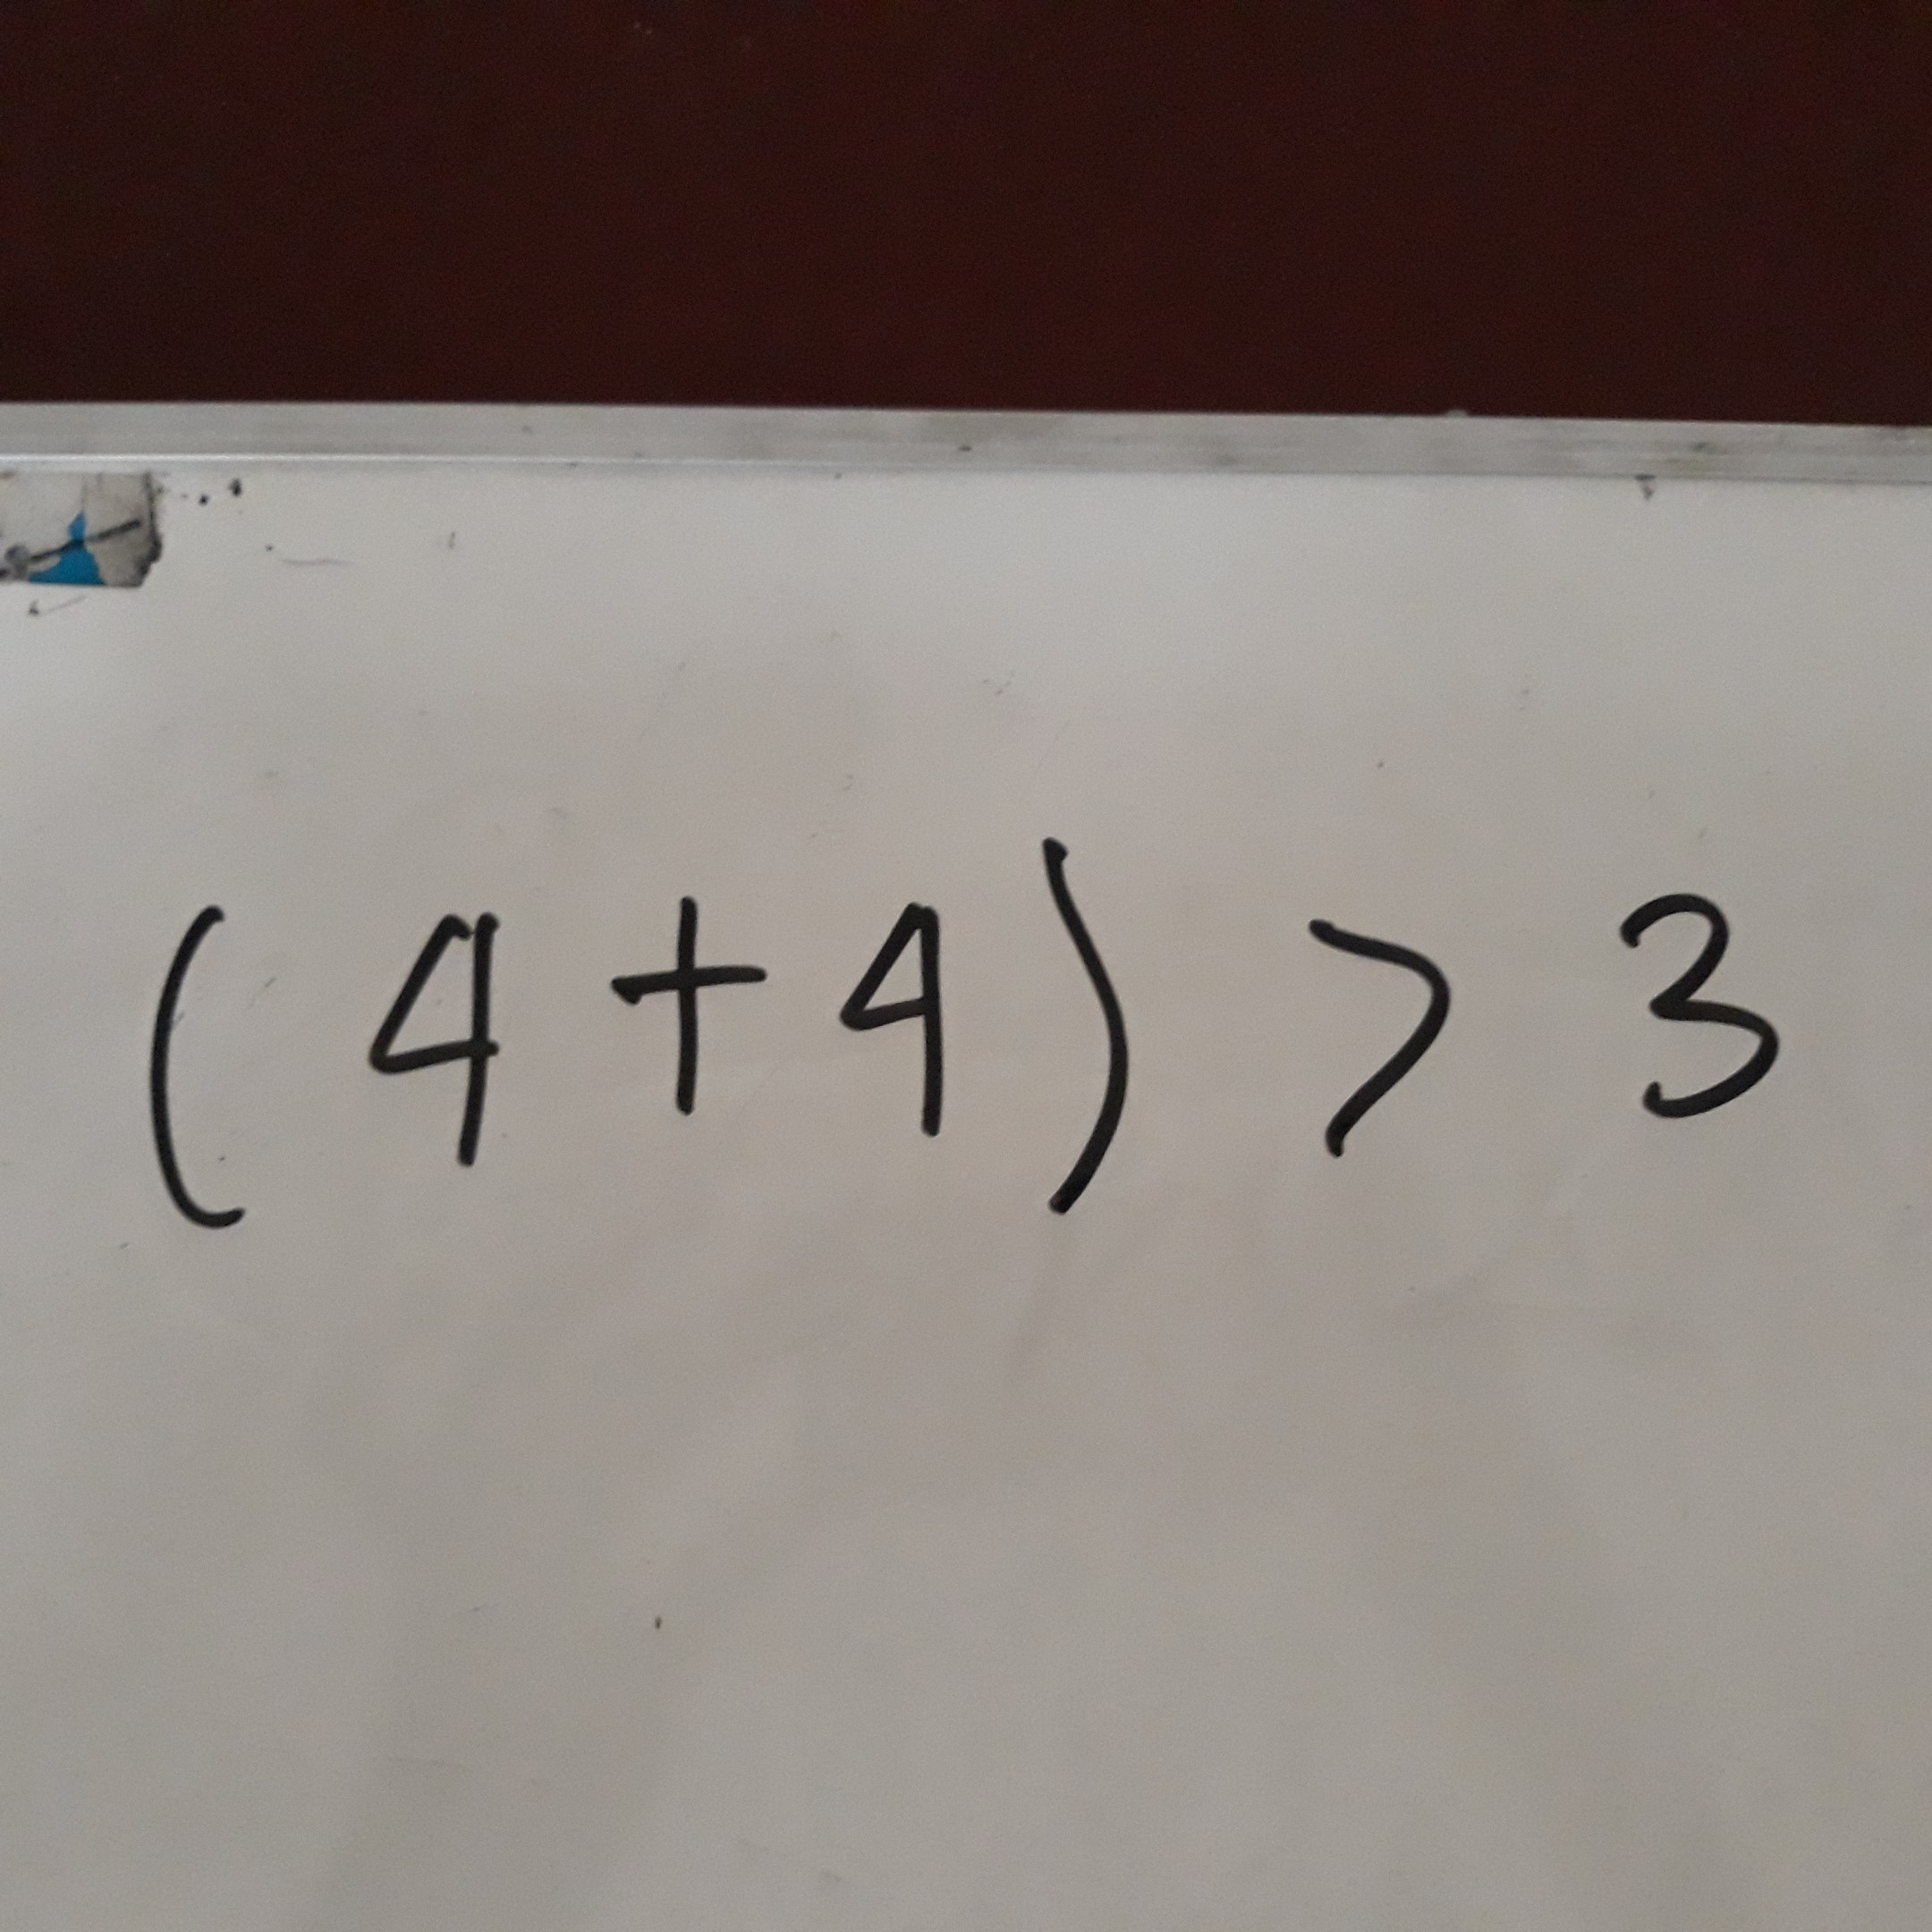closebracket: (1004, 823, 1145, 1251)
morethan: (1272, 897, 1463, 1173)
num3: (1597, 869, 1788, 1145)
num4: (807, 877, 983, 1168), (352, 899, 528, 1190)
openbracket: (139, 888, 261, 1253)
sum: (601, 863, 777, 1154)
